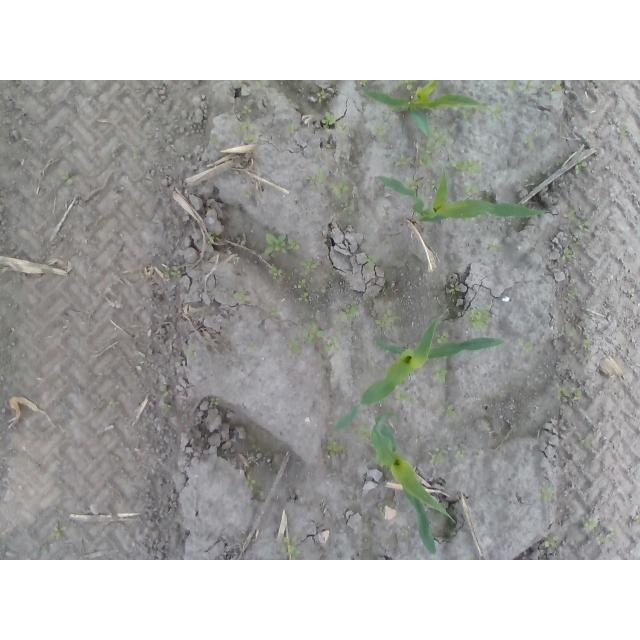Maize: (336, 316, 509, 432), (370, 412, 459, 554), (375, 175, 545, 226), (362, 80, 487, 137)
Weeds: (303, 325, 342, 355), (266, 230, 303, 255), (328, 176, 352, 208), (468, 304, 496, 329), (553, 384, 583, 401), (451, 158, 482, 174), (339, 299, 358, 321), (376, 309, 399, 327), (418, 143, 434, 168), (324, 437, 345, 455), (294, 278, 309, 303), (283, 537, 302, 556), (431, 364, 448, 385), (302, 258, 319, 276), (430, 448, 448, 465), (431, 129, 450, 145), (287, 337, 302, 353), (354, 425, 370, 440), (231, 289, 249, 302), (574, 159, 587, 177), (442, 401, 457, 416), (394, 154, 410, 168), (321, 111, 335, 126), (549, 81, 563, 96), (543, 536, 559, 549), (490, 104, 502, 121), (245, 472, 256, 490), (269, 265, 282, 280), (59, 172, 74, 185), (306, 173, 325, 183), (238, 121, 261, 129), (585, 516, 599, 529), (577, 220, 592, 232), (400, 80, 418, 90), (539, 488, 553, 500), (435, 333, 450, 344), (316, 90, 328, 103), (371, 125, 385, 136), (394, 392, 411, 401), (464, 185, 481, 194), (523, 340, 534, 353), (504, 81, 516, 92), (51, 527, 62, 538), (244, 134, 257, 143), (169, 266, 178, 279), (582, 339, 592, 350), (366, 254, 375, 266), (240, 105, 253, 113), (523, 80, 533, 90), (449, 284, 460, 293), (211, 398, 221, 407), (563, 248, 572, 258), (463, 109, 472, 119), (456, 447, 464, 458), (270, 306, 278, 316), (208, 232, 216, 241), (359, 81, 369, 88)
